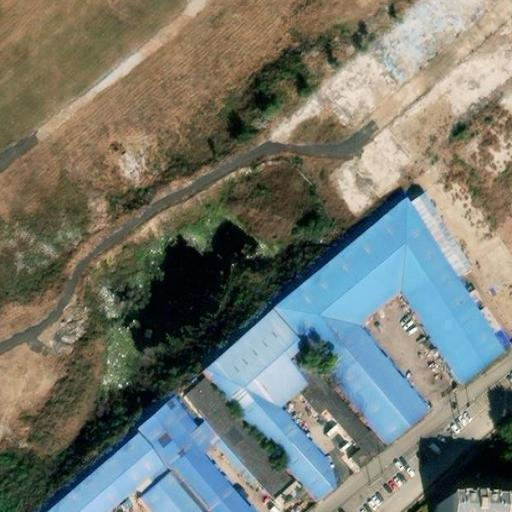building: (272, 200, 505, 446), (200, 311, 389, 508), (136, 395, 257, 512), (183, 377, 292, 497), (47, 432, 170, 512), (141, 470, 209, 512), (436, 500, 512, 512)
